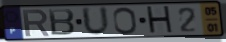2: (177, 6, 197, 33)
B: (47, 8, 77, 37)
H: (145, 5, 176, 36)
O: (112, 6, 139, 36)
R: (21, 8, 52, 38)
U: (80, 6, 112, 38)
